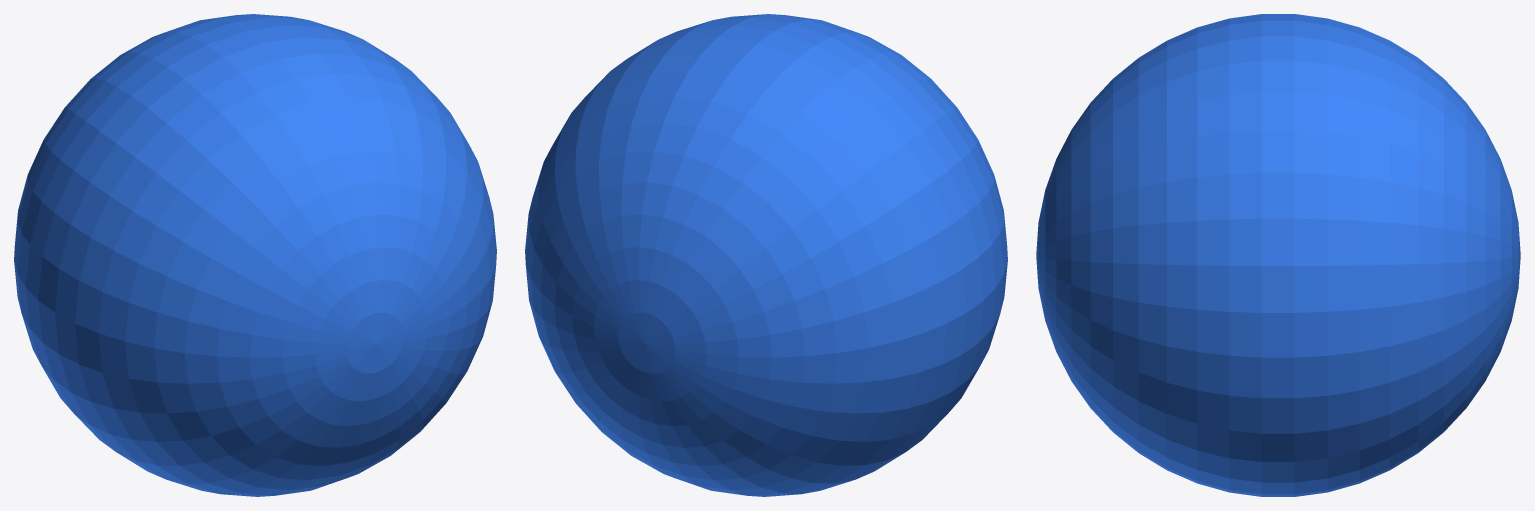
The model's file is wb_globe.obj.
3 views of the same model, side by side, from view 1: azimuth 30°, elevation 25°; view 2: azimuth 150°, elevation 25°; view 3: azimuth 270°, elevation 25° (orthographic).
Bounding box in the file's own units: 2 × 2 × 2.
